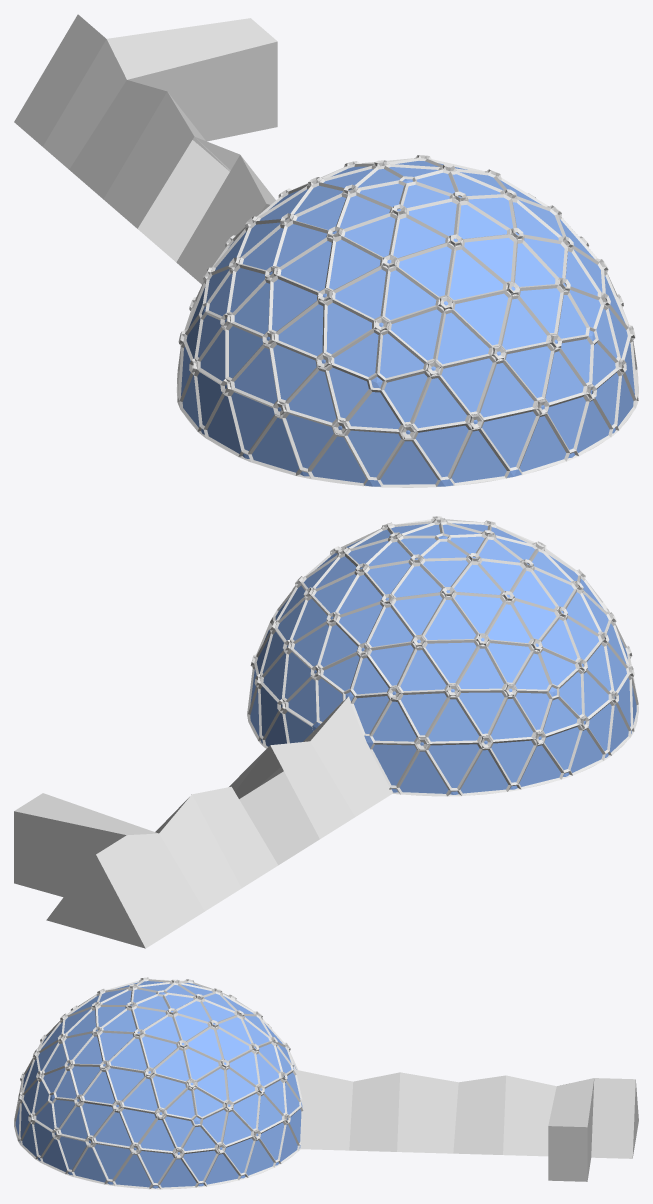
File: modelo1-domo.fbx
3 renders of one model, top to bottom at view 1: azimuth 30°, elevation 25°; view 2: azimuth 150°, elevation 25°; view 3: azimuth 270°, elevation 25°, orthographic. The views are drawn at different scales.
Visible parts, largest first — view 1: Icosphere.001, Icosphere, Circle.004, Cube; view 2: Icosphere.001, Circle.004, Icosphere, Cube; view 3: Icosphere.001, Circle.004, Icosphere, Cube.
Boxes of the visible parts, bbox=[...] form: Icosphere.001: bbox=[181, 161, 634, 486]; Icosphere: bbox=[177, 155, 638, 487]; Circle.004: bbox=[14, 14, 275, 284]; Cube: bbox=[107, 18, 277, 143]; Icosphere.001: bbox=[250, 523, 636, 794]; Circle.004: bbox=[46, 696, 392, 948]; Icosphere: bbox=[247, 516, 638, 796]; Cube: bbox=[14, 793, 158, 897]; Icosphere.001: bbox=[15, 981, 302, 1188]; Circle.004: bbox=[294, 1069, 638, 1158]; Icosphere: bbox=[14, 977, 303, 1189]; Cube: bbox=[548, 1078, 594, 1181].
Bounding box in the file's own units: 2009 × 1006 × 4234.
